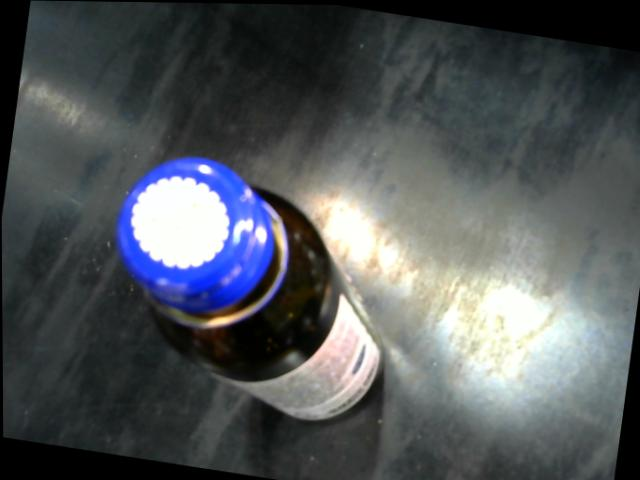glass: (112, 149, 390, 437)
